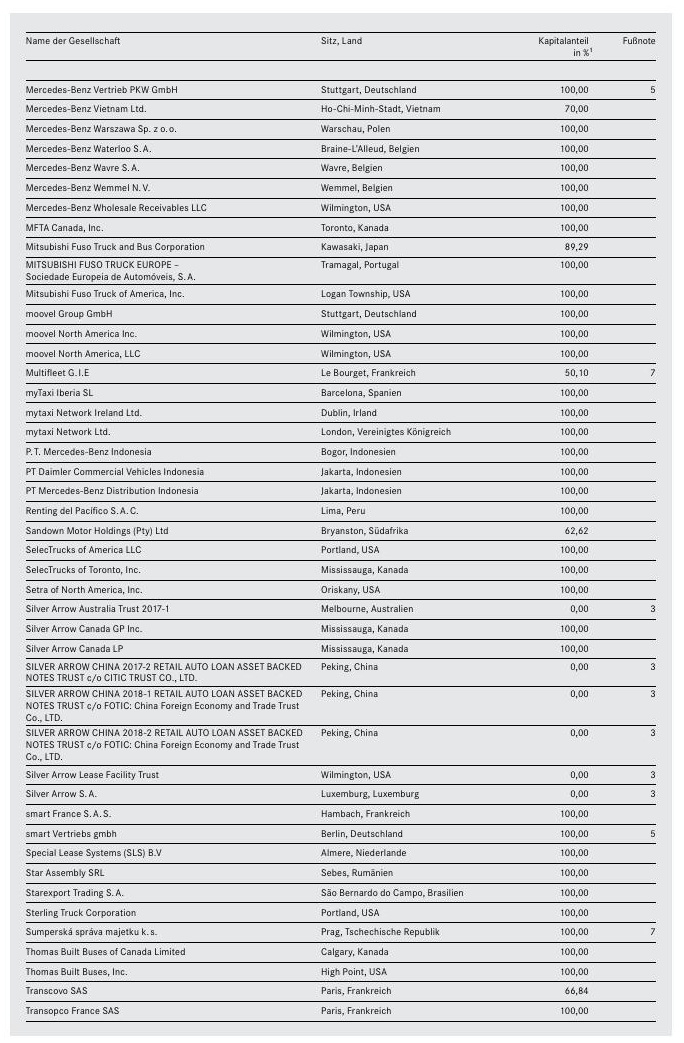table: (0, 0, 684, 1043)
